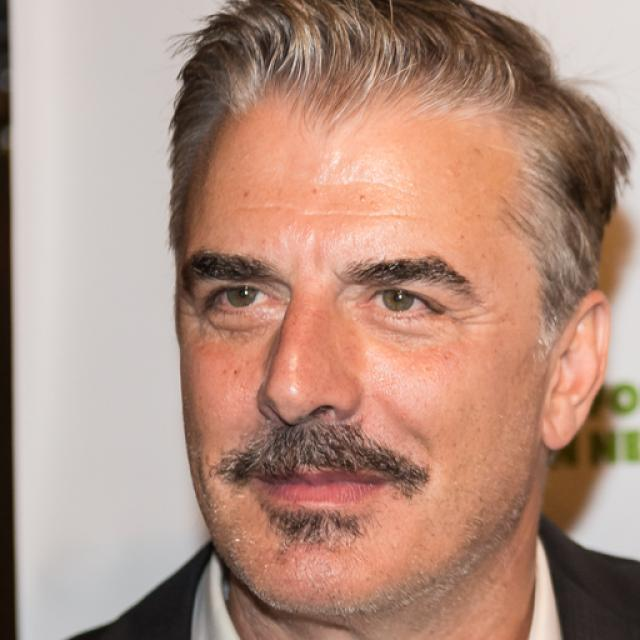Wrinkle: (233, 200, 430, 224), (340, 172, 419, 199)
